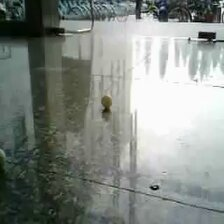w: (100, 95, 114, 107)
